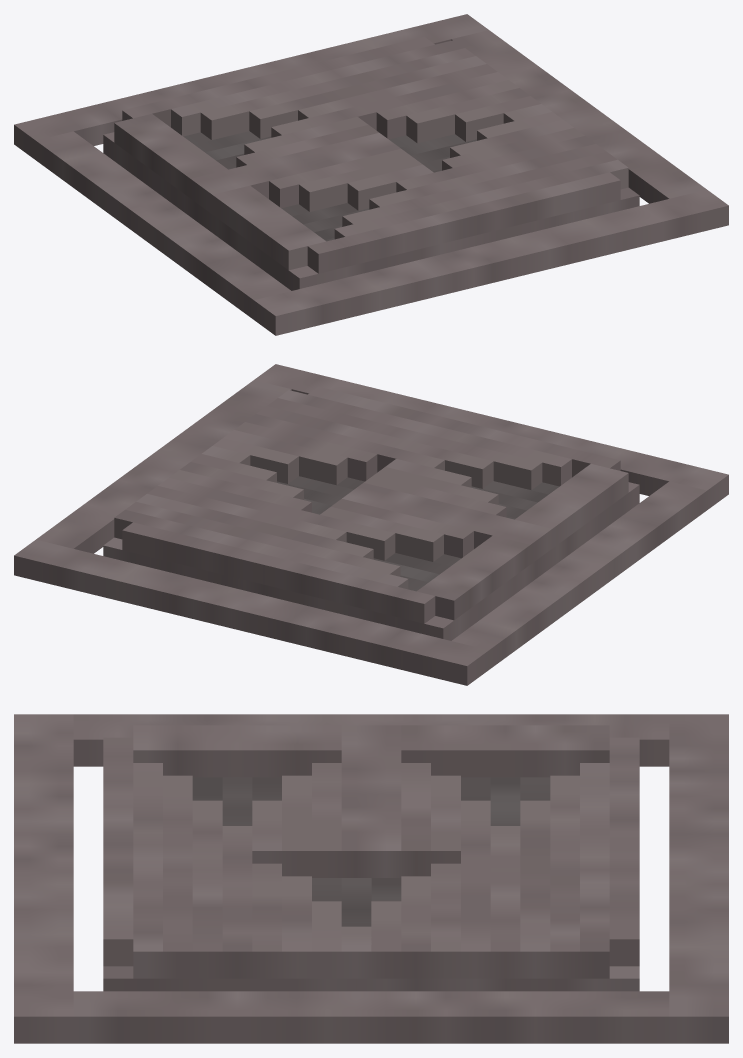
Rendered from Pressure_Plate_dart.fbx.
3 views of the same model, one above another, from view 1: azimuth 30°, elevation 25°; view 2: azimuth 150°, elevation 25°; view 3: azimuth 270°, elevation 25° (orthographic). The views are drawn at different scales.
Parts seen in each view (by area): view 1: Pressure_Plate_dart; view 2: Pressure_Plate_dart; view 3: Pressure_Plate_dart.
Part boxes in pixels (<box>): Pressure_Plate_dart: <box>14,14,728,335</box>; Pressure_Plate_dart: <box>14,364,728,685</box>; Pressure_Plate_dart: <box>14,714,728,1043</box>.
Size of the model in its own units: 24 by 2 by 24.
1 material, 1 textured.
